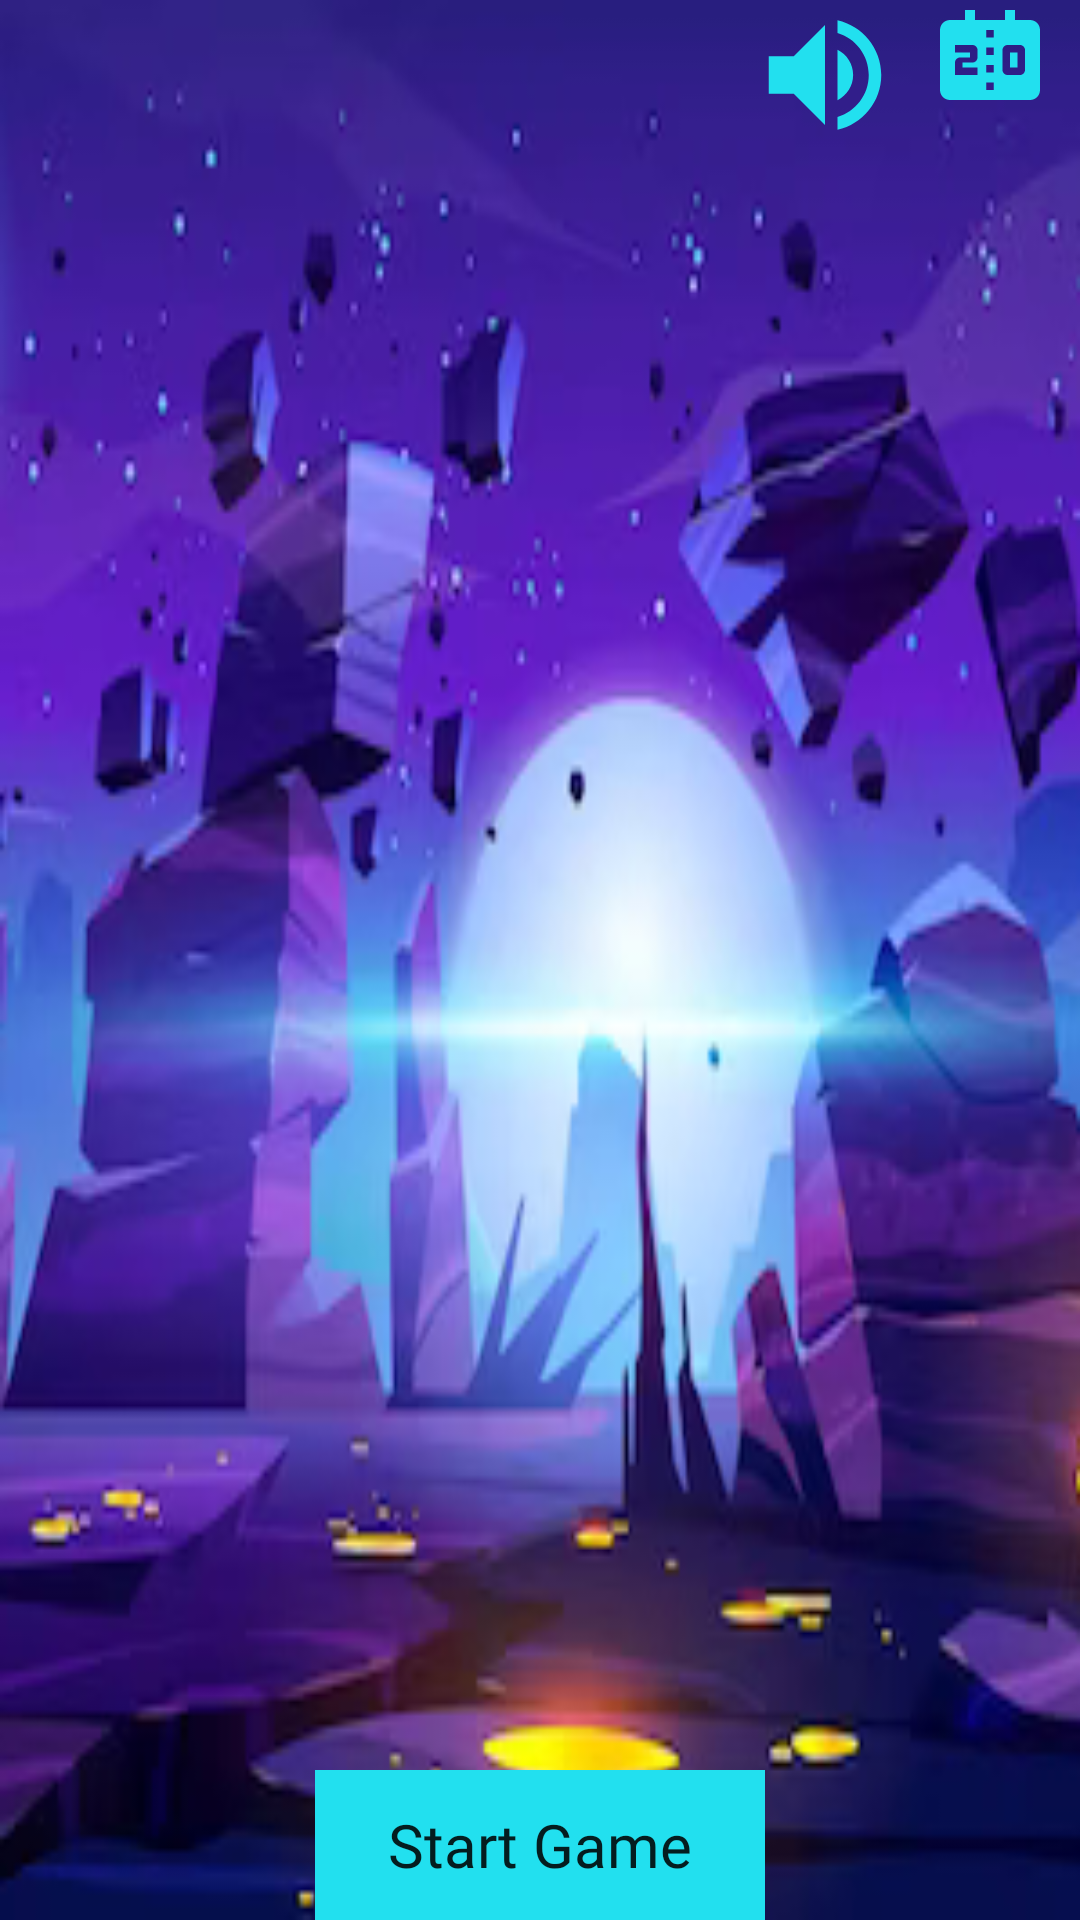

Screen size 1080w x 1920h. Icon name, then its box in pixels as (x1, y1, x2, y2):
scoreboard: (940, 10, 1040, 138)
volume up: (768, 20, 882, 130)
